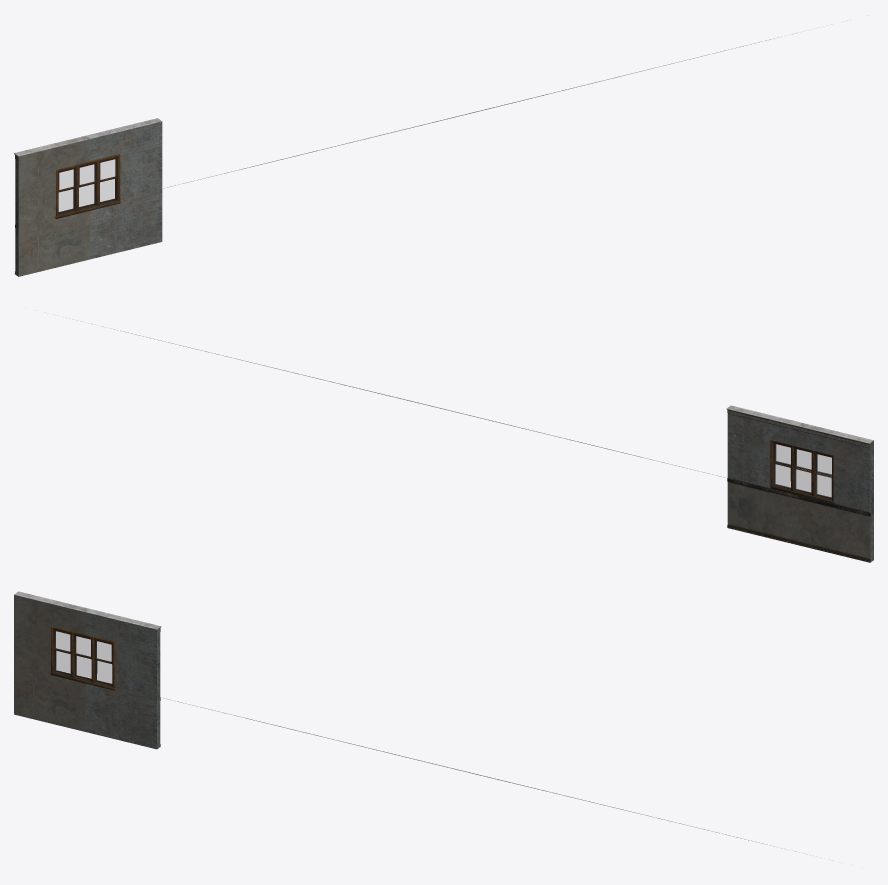
Rendered from wallwindow.glb.
3 views of the same model, one above another, from view 1: azimuth 30°, elevation 25°; view 2: azimuth 150°, elevation 25°; view 3: azimuth 330°, elevation 25° (orthographic).
Visible parts, largest first — view 1: 05_05_0, Base, Base_1; view 2: 05_05_0, Base_1, Base; view 3: 05_05_0, Base, Base_1.
Part boxes in pixels (x1,y1,x2,y2): 05_05_0: (14, 32, 797, 276); Base: (55, 154, 120, 218); Base_1: (59, 159, 115, 211); 05_05_0: (81, 321, 873, 562); Base_1: (775, 444, 831, 497); Base: (770, 440, 833, 503); 05_05_0: (14, 591, 806, 854); Base: (50, 626, 115, 690); Base_1: (56, 631, 111, 683).
Size of the model in its own units: 29.9 by 4 by 0.3001.
3 materials, 2 textured.
